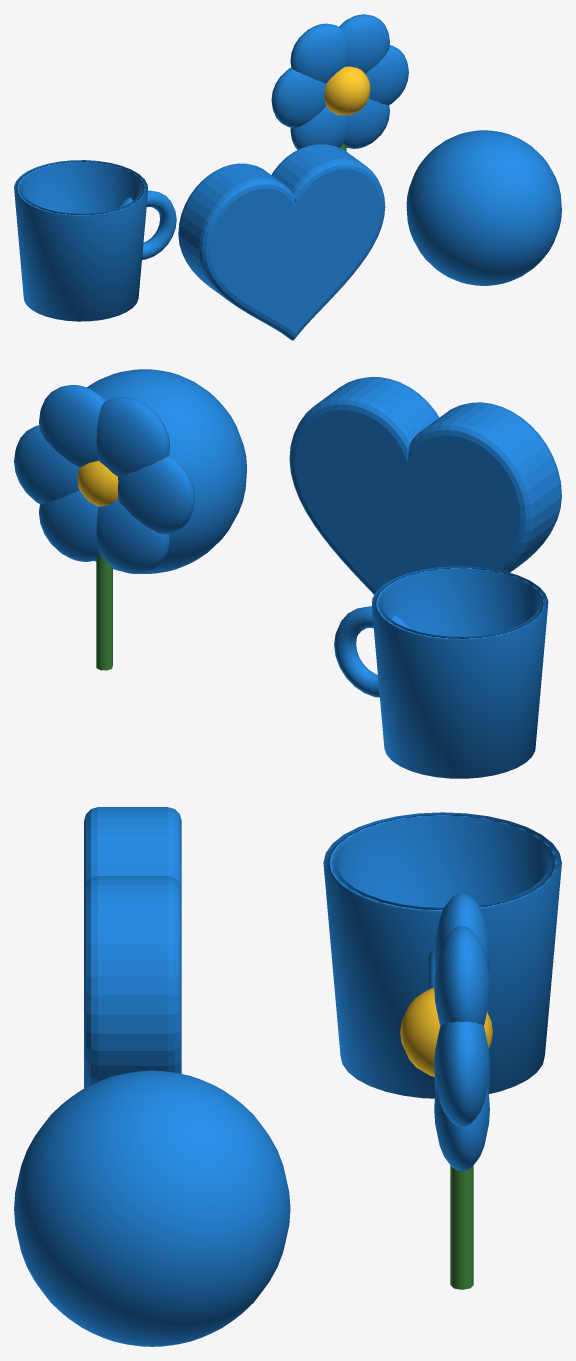
Rendered from blue.glb.
3 views of the same model, one above another, from view 1: azimuth 30°, elevation 25°; view 2: azimuth 150°, elevation 25°; view 3: azimuth 270°, elevation 25° (orthographic). The views are drawn at different scales.
Visible parts, largest first — view 1: heart, cup, ball, flower; view 2: heart, cup, flower, ball; view 3: ball, cup, heart, flower.
Boxes of the visible parts, bbox=[...] form: heart: bbox=[178, 144, 385, 340]; cup: bbox=[14, 160, 176, 321]; ball: bbox=[406, 130, 561, 285]; flower: bbox=[271, 14, 408, 151]; heart: bbox=[289, 377, 561, 594]; cup: bbox=[334, 566, 548, 778]; flower: bbox=[14, 385, 194, 670]; ball: bbox=[87, 369, 246, 573]; ball: bbox=[14, 1070, 290, 1346]; cup: bbox=[323, 812, 561, 1098]; heart: bbox=[84, 807, 181, 1088]; flower: bbox=[400, 893, 492, 1289].
Bounding box in the file's own units: 2.36 × 1.05 × 1.41.
